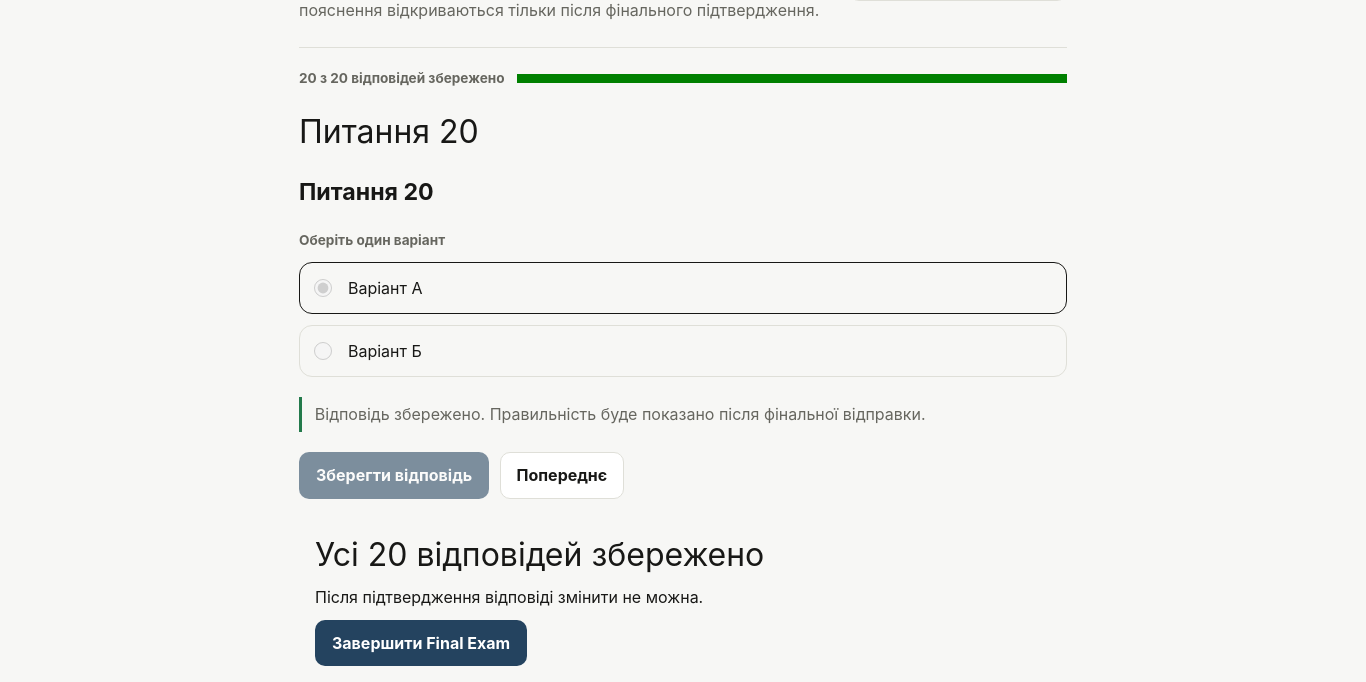
Employee Final Exam › requires final confirmation, then shows pass status, review and immediate retake
(page scrolled)
Step 1. Click the button "Завершити Final Exam" → (421, 643), box [315, 620, 527, 666]
(page scrolled)
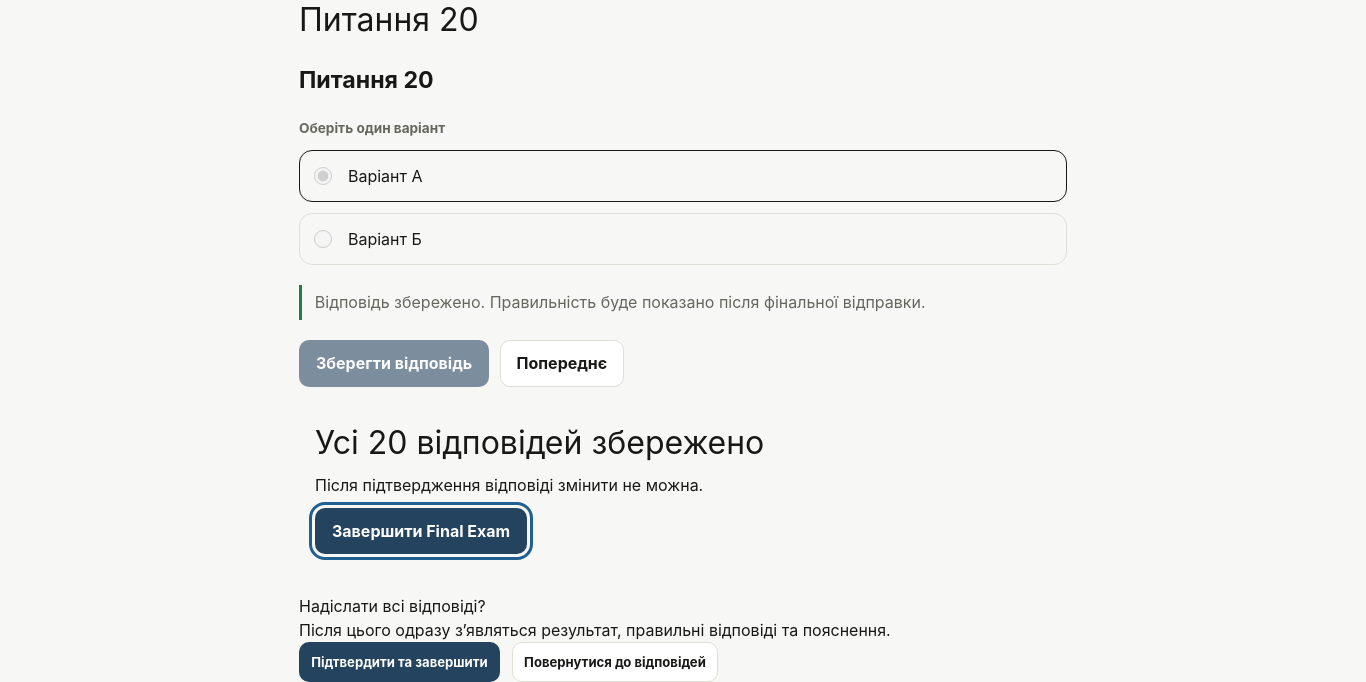
Expected: the dialog named "Підтвердити завершення" is shown, [299, 596, 891, 681]
Step 2. Click the button "Підтвердити та завершити" → (399, 662), box [299, 642, 500, 681]
(page scrolled)
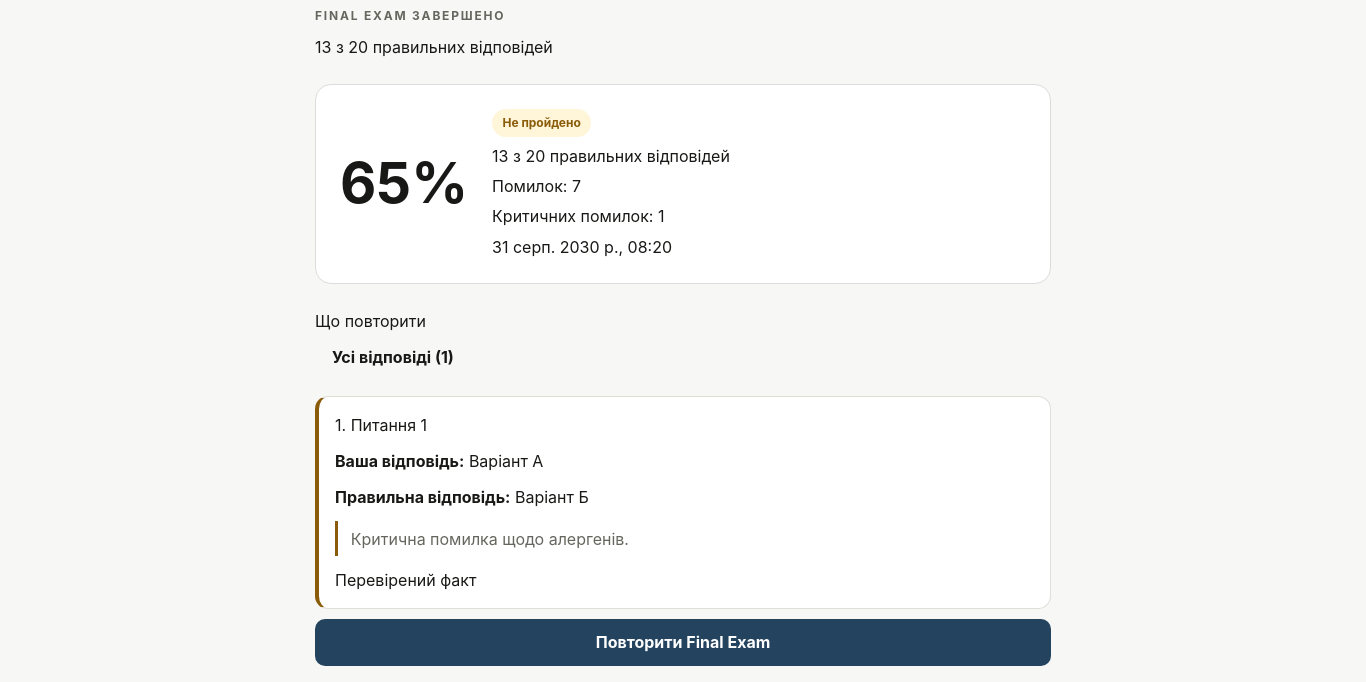
Expected: the heading "13 з 20 правильних відповідей" is shown, [315, 37, 553, 57]
Expected: the text "Не пройдено" is shown, [492, 109, 591, 137]
Expected: the text "Перевірений факт" is shown, [335, 570, 476, 590]
